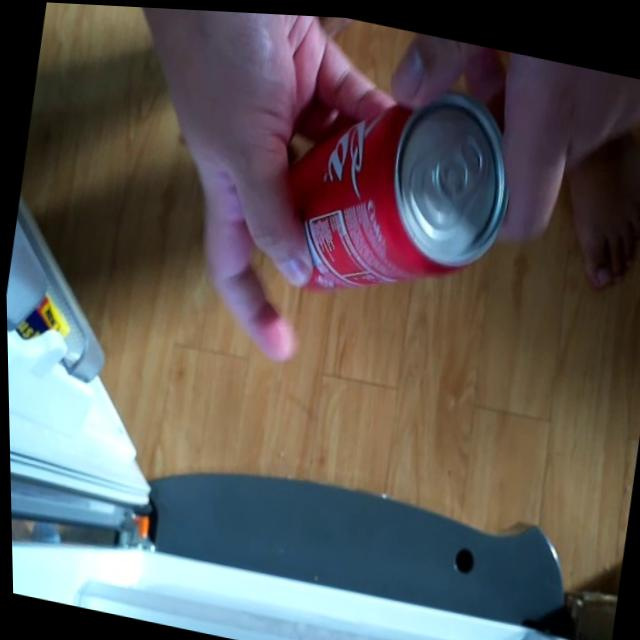coke: (255, 50, 534, 333)
